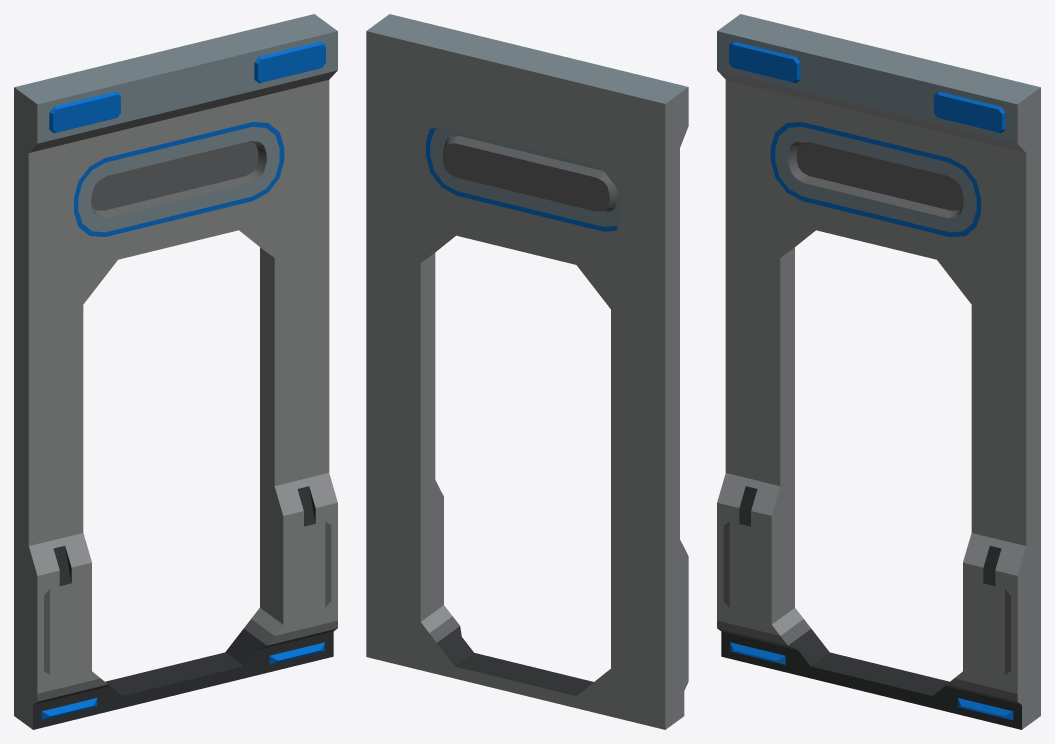
The model's file is Wall_type_B_053.fbx.
The picture shows the model from 3 angles, left to right: view 1: azimuth 30°, elevation 25°; view 2: azimuth 150°, elevation 25°; view 3: azimuth 330°, elevation 25°; orthographic projection.
Parts seen in each view (by area): view 1: Wall_type_B_053; view 2: Wall_type_B_053; view 3: Wall_type_B_053.
Boxes of the visible parts, <box> form: Wall_type_B_053: <box>14,14,337,729</box>; Wall_type_B_053: <box>366,14,688,729</box>; Wall_type_B_053: <box>717,14,1040,729</box>.
Bounding box in the file's own units: 200 × 28.98 × 400.
